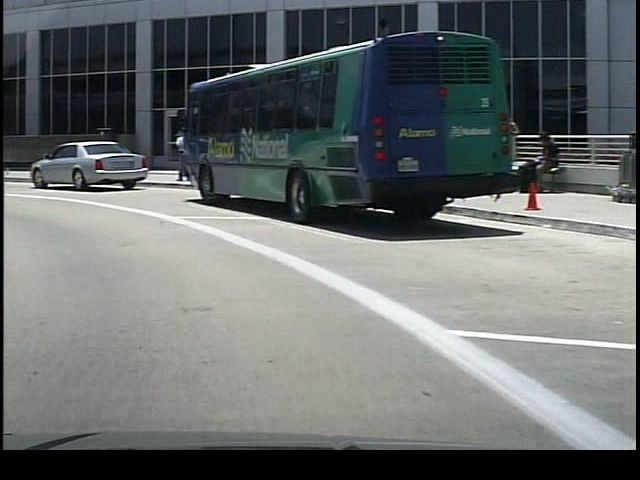person: (513, 128, 558, 194), (163, 128, 182, 185)
